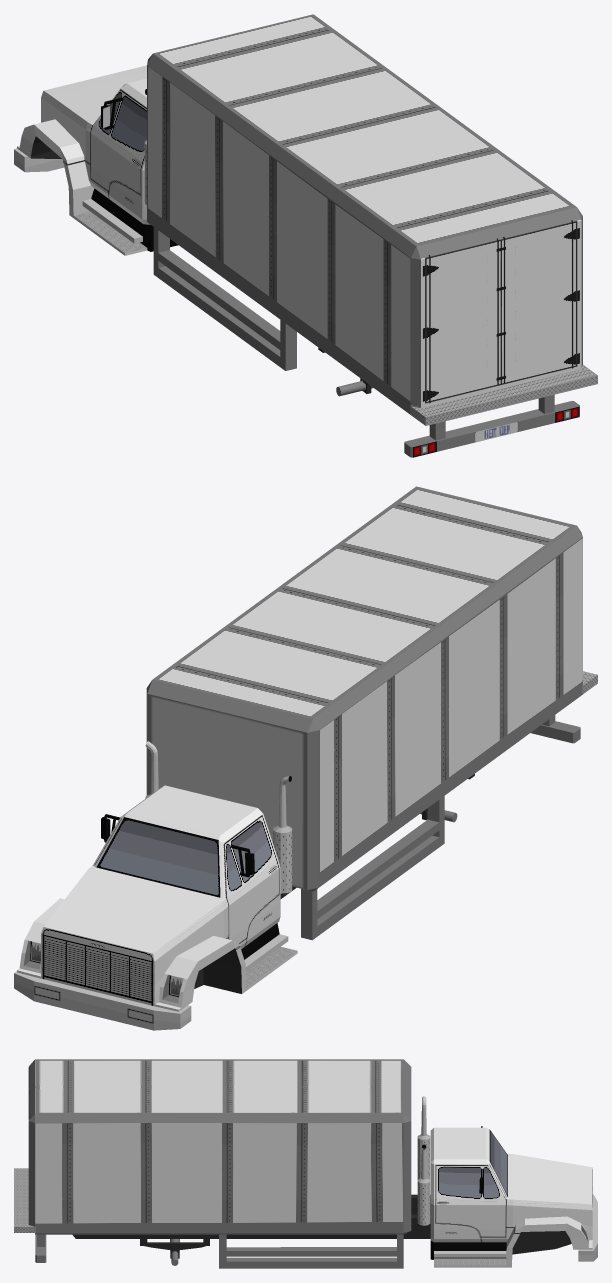
The picture shows the model from 3 angles, top to bottom: view 1: azimuth 30°, elevation 25°; view 2: azimuth 150°, elevation 25°; view 3: azimuth 270°, elevation 25°; orthographic projection. The views are drawn at different scales.
Parts seen in each view (by area): view 1: FL70; view 2: FL70; view 3: FL70.
Part boxes in pixels (x1=…): FL70: x1=14, y1=14, x2=597, y2=457; FL70: x1=14, y1=486, x2=597, y2=1030; FL70: x1=14, y1=1059, x2=597, y2=1268.
Size of the model in its own units: 2.38 by 3.04 by 9.98.
